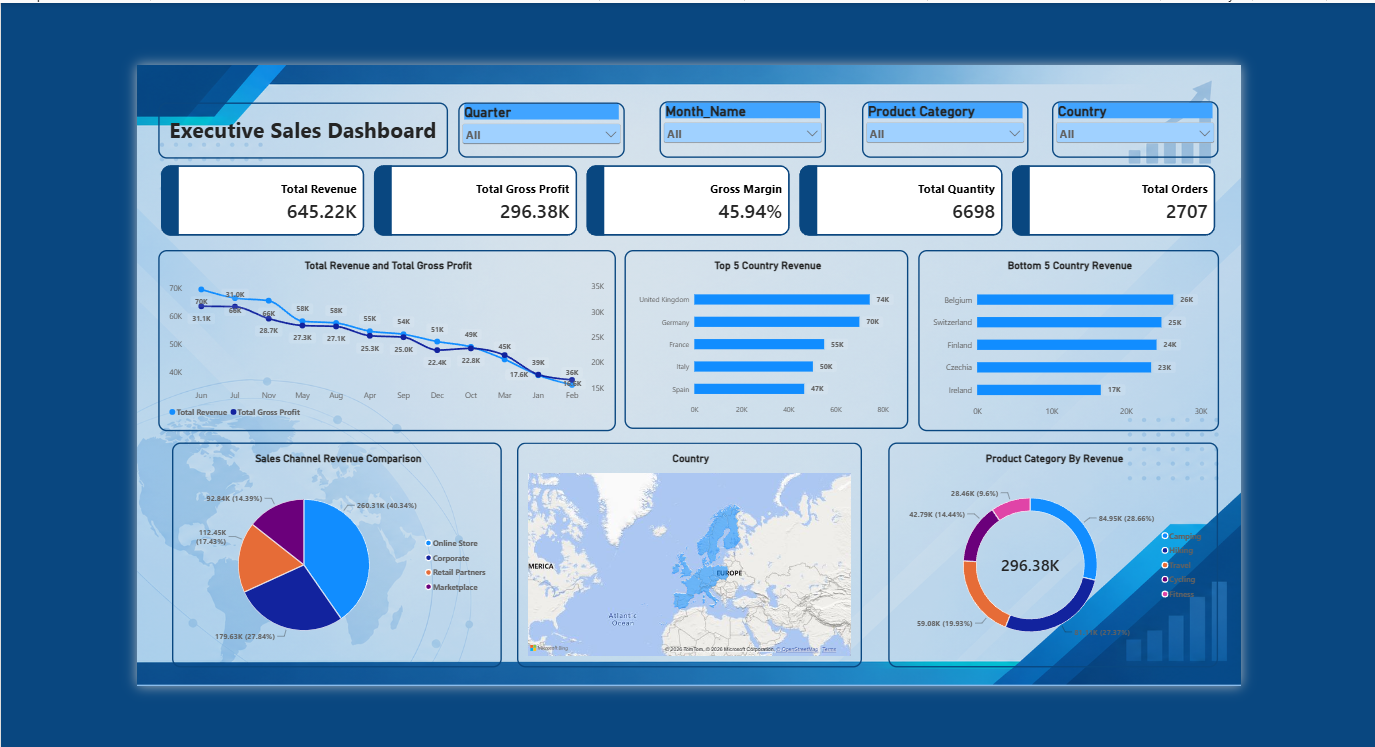

Layout of this report page (visuals, bound fields, positions):
{"tool":"powerbi","page":{"name":"Page 1","canvas":[1920,1080],"ordinal":0},"visuals":[{"type":"cardVisual","fields":{"Data":["All_measures.Total Revenue","All_measures.Total Gross Profit","All_measures.Gross Margin","All_measures.Total Quantity","All_measures.Total Orders"]},"box":[37,169.6,1843.5,132.6],"z":0},{"type":"textbox","box":[37,65.2,504.3,97.8],"z":1},{"type":"slicer","fields":{"Values":["Date_Table.Quarter"]},"box":[558.7,65.2,289.4,96.2],"z":2},{"type":"slicer","fields":{"Values":["Date_Table.Month_Name"]},"box":[908.7,63,289.4,98.8],"z":3},{"type":"slicer","fields":{"Values":["Sales_Data.Product Category"]},"box":[1260.9,63,289.4,98.8],"z":4},{"type":"slicer","fields":{"Values":["Sales_Data.Country"]},"box":[1591.3,63,289.4,98.8],"z":5},{"type":"lineChart","title":"Total Revenue and Total Gross Profit","fields":{"Category":["Date_Table.Month_Name"],"Y":["All_measures.Total Revenue"],"Y2":["All_measures.Total Gross Profit"]},"box":[37,321.7,795.7,315.2],"z":7},{"type":"clusteredBarChart","title":"Top 5 Country Revenue","fields":{"Category":["Sales_Data.Country"],"Y":["All_measures.Total Revenue"]},"box":[847.8,321.7,494,310.8],"z":8},{"type":"clusteredBarChart","title":"Bottom 5 Country Revenue","fields":{"Category":["Sales_Data.Country"],"Y":["All_measures.Total Revenue"]},"box":[1358.7,321.7,522.8,314.9],"z":9},{"type":"pieChart","title":"Sales Channel Revenue Comparison","fields":{"Category":["Sales_Data.Sales Channel"],"Y":["All_measures.Total Revenue"]},"box":[60.9,656.5,573.9,391.3],"z":10},{"type":"donutChart","title":"Product Category By Revenue","fields":{"Category":["Sales_Data.Product Category"],"Y":["All_measures.Total Gross Profit"]},"box":[1306.5,656.5,573.9,391.3],"z":11},{"type":"filledMap","fields":{"Category":["Sales_Data.Country"]},"box":[660.9,656.5,600,391.3],"z":12}]}

Visuals, with their boxes on the page's 1920x1080 design canvas (x1, y1, x2, y2). These are canvas units, not pixel positions in the 1375x747 screenshot, which may show the page scaled, cropped or inside an application window:
cardVisual - All_measures.Total Revenue x All_measures.Total Gross Profit: 37/170/1880/302
textbox: 37/65/541/163
slicer - Date_Table.Quarter: 559/65/848/161
slicer - Date_Table.Month_Name: 909/63/1198/162
slicer - Sales_Data.Product Category: 1261/63/1550/162
slicer - Sales_Data.Country: 1591/63/1881/162
"Total Revenue and Total Gross Profit" lineChart: 37/322/833/637
"Top 5 Country Revenue" clusteredBarChart: 848/322/1342/632
"Bottom 5 Country Revenue" clusteredBarChart: 1359/322/1882/637
"Sales Channel Revenue Comparison" pieChart: 61/656/635/1048
"Product Category By Revenue" donutChart: 1306/656/1880/1048
filledMap - Sales_Data.Country: 661/656/1261/1048
